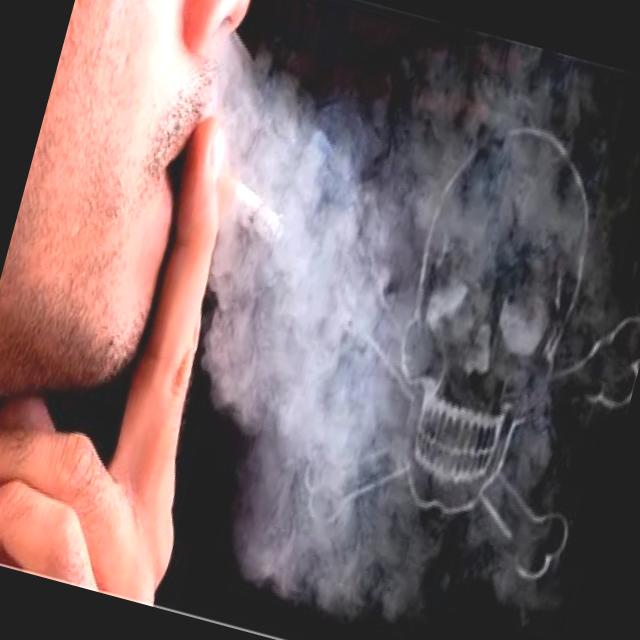smoke: (203, 166, 314, 264)
